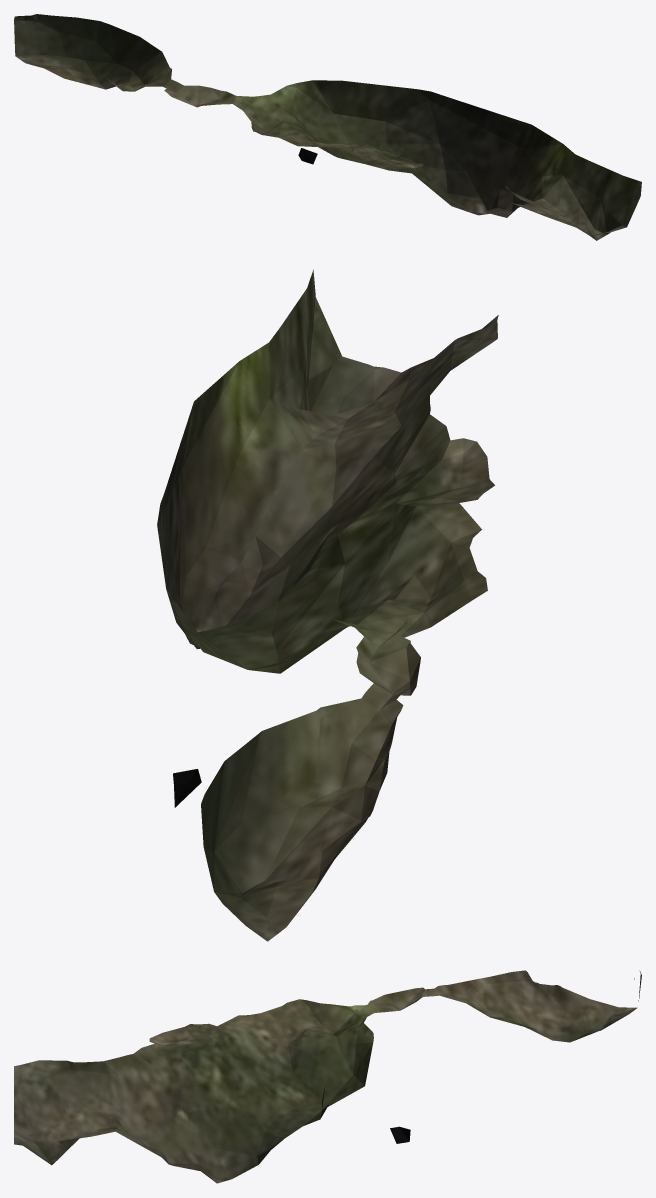
The picture shows the model from 3 angles, top to bottom: view 1: azimuth 30°, elevation 25°; view 2: azimuth 150°, elevation 25°; view 3: azimuth 270°, elevation 25°; orthographic projection. The views are drawn at different scales.
Size of the model in its own units: 2.95 by 0.9276 by 5.55.
1 material, 1 textured.
